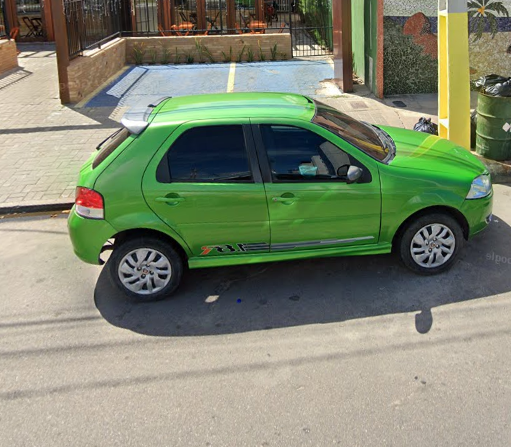car: (65, 90, 495, 300)
